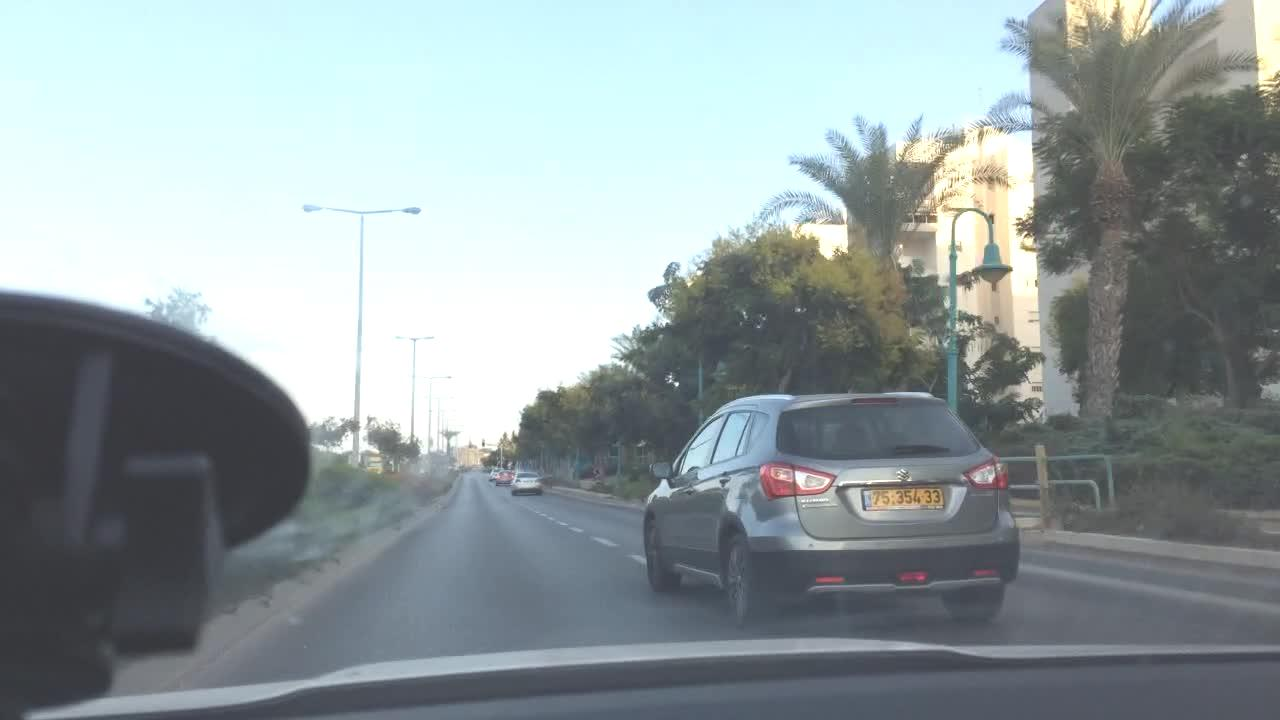suzuki: (890, 460, 915, 485)
